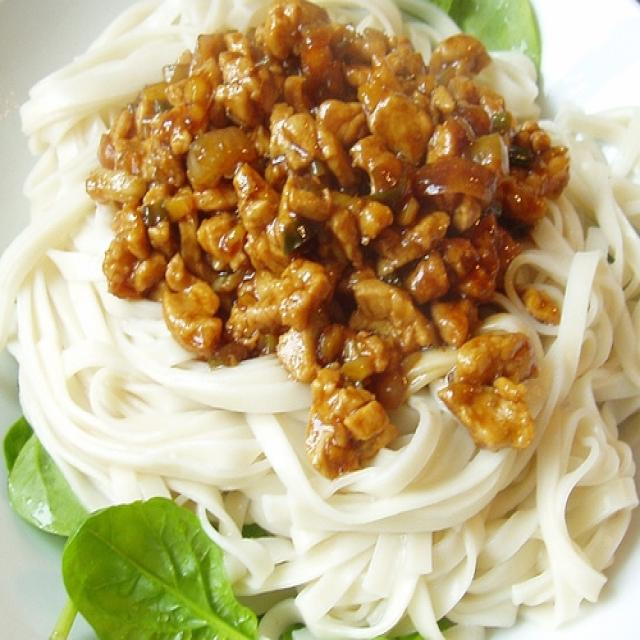面条主食: (5, 8, 635, 623)
